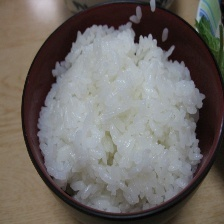rice: (29, 0, 214, 218)
